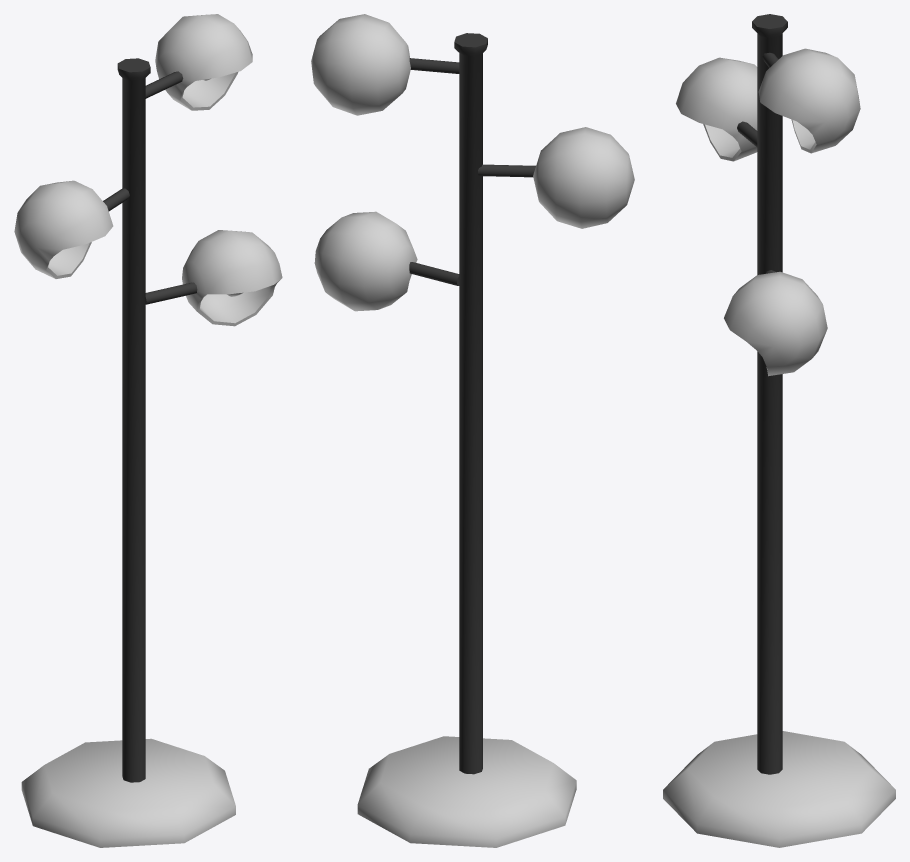
The model's file is Floor_Lamp_09.FBX.
3 views of the same model, side by side, from view 1: azimuth 30°, elevation 25°; view 2: azimuth 150°, elevation 25°; view 3: azimuth 270°, elevation 25° (orthographic). The views are drawn at different scales.
Parts seen in each view (by area): view 1: Floor_Lamp; view 2: Floor_Lamp; view 3: Floor_Lamp.
Part boxes in pixels (bbox=[...]): Floor_Lamp: bbox=[14, 14, 282, 847]; Floor_Lamp: bbox=[311, 14, 634, 847]; Floor_Lamp: bbox=[663, 14, 895, 847].
Bounding box in the file's own units: 106 × 275 × 73.35.
